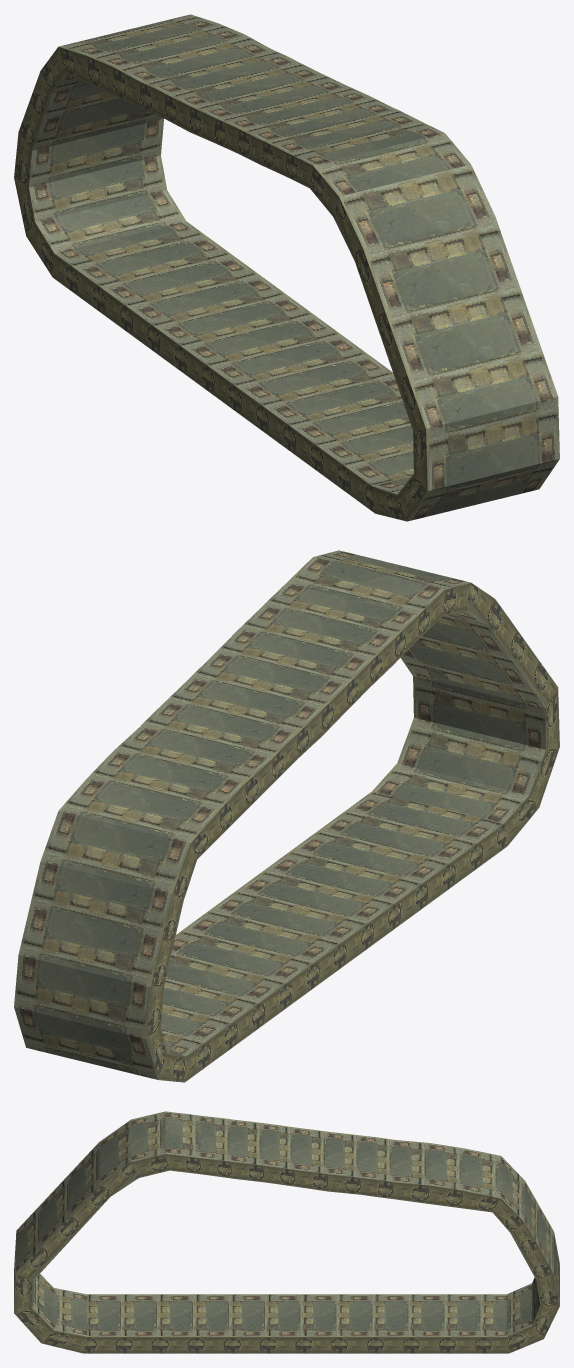
File: VWFBSTAH_TRAC_L.obj
The picture shows the model from 3 angles, top to bottom: view 1: azimuth 30°, elevation 25°; view 2: azimuth 150°, elevation 25°; view 3: azimuth 270°, elevation 25°; orthographic projection. The views are drawn at different scales.
Parts seen in each view (by area): view 1: Node 0; view 2: Node 0; view 3: Node 0.
Boxes of the visible parts, box(x1,y1,x2,y2) form: Node 0: box(14, 14, 559, 521); Node 0: box(14, 550, 559, 1082); Node 0: box(14, 1111, 559, 1353).
Size of the model in its own units: 1.7 by 3.72 by 9.22.
1 material, 1 textured.
